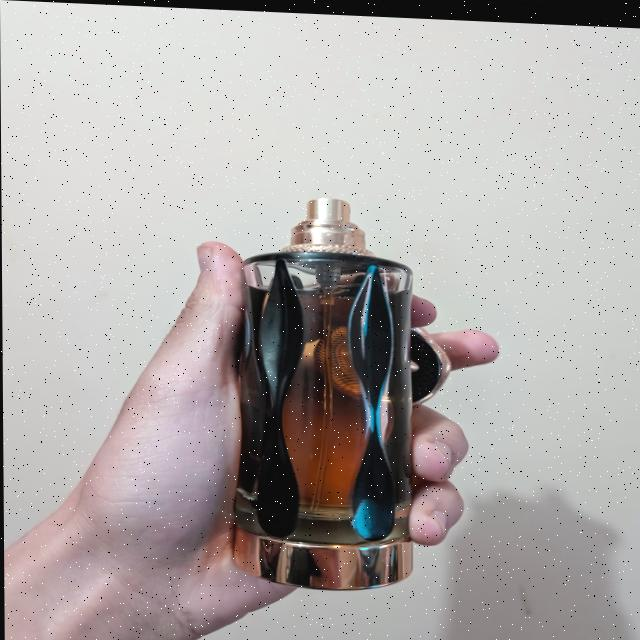Teriaq-Intense: (225, 190, 448, 594)
